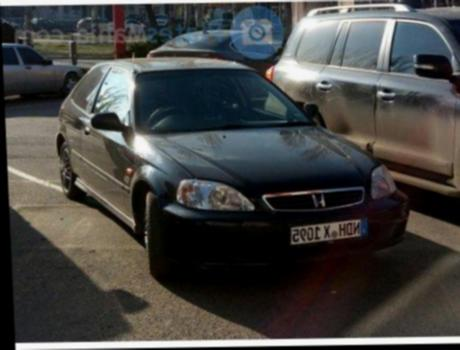License_Plate: (282, 213, 374, 248)
